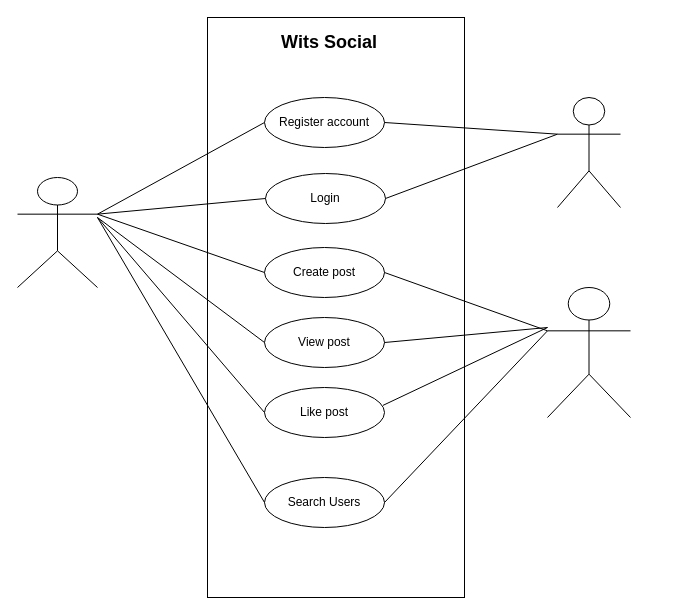
This 677x615 diagram has some shape labels left out. Each missing label, with the centre of its shape:
<< Authentication>> Firebase Authentification: point (588, 152)
<<Database>> Firebase Database: point (588, 352)
User: point (57, 232)
